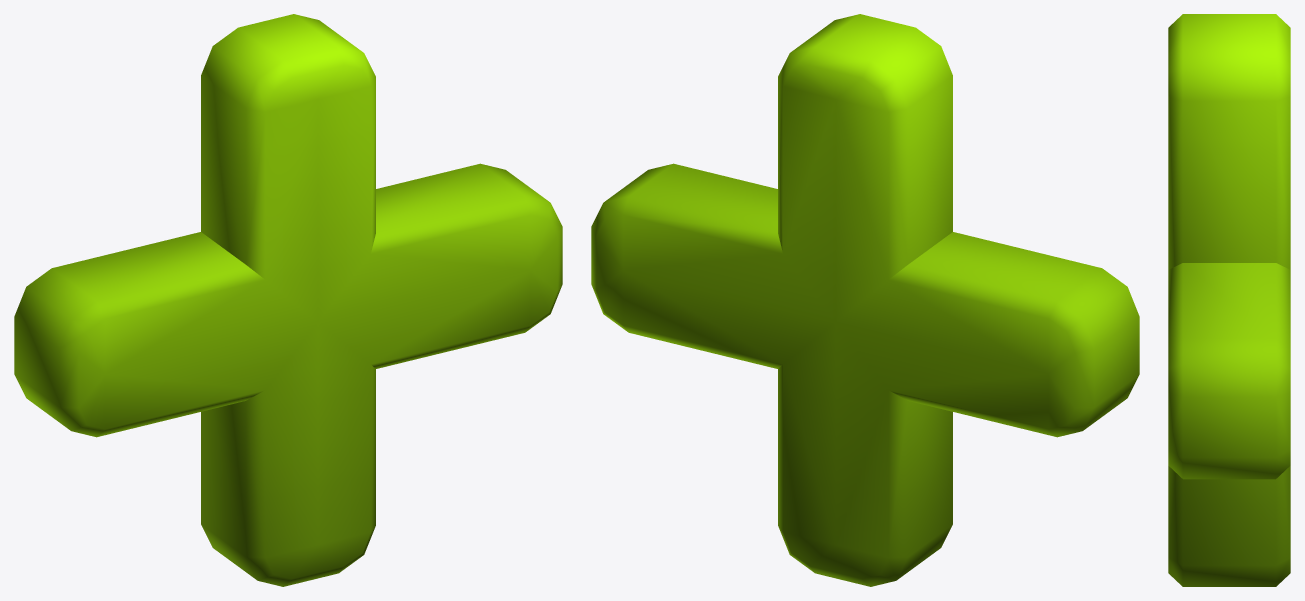
Rendered from Collectable_Plus_01.fbx.
The picture shows the model from 3 angles, left to right: view 1: azimuth 30°, elevation 25°; view 2: azimuth 150°, elevation 25°; view 3: azimuth 270°, elevation 25°; orthographic projection. The views are drawn at different scales.
Parts seen in each view (by area): view 1: Collectable_Plus_01; view 2: Collectable_Plus_01; view 3: Collectable_Plus_01.
Boxes of the visible parts, <box> form: Collectable_Plus_01: <box>14,14,562,586</box>; Collectable_Plus_01: <box>591,14,1139,586</box>; Collectable_Plus_01: <box>1168,14,1290,586</box>.
Size of the model in its own units: 71.09 by 71.09 by 14.49.
Materials: 1 (1 with a texture image).
